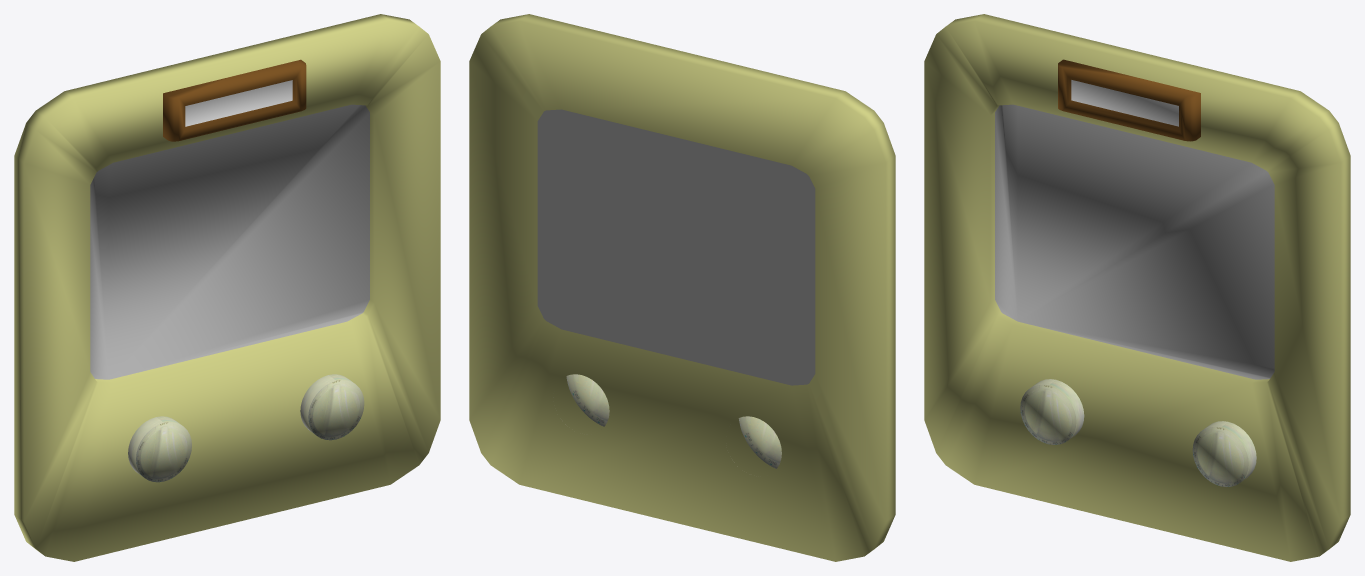
The model's file is ovenCover.fbx.
3 renders of one model, left to right at view 1: azimuth 30°, elevation 25°; view 2: azimuth 150°, elevation 25°; view 3: azimuth 330°, elevation 25°, orthographic.
Parts seen in each view (by area): view 1: joinedcover; view 2: joinedcover; view 3: joinedcover.
Boxes of the visible parts, x1,y1,x2,y2 form: joinedcover: (14,14,440,561); joinedcover: (469,14,895,561); joinedcover: (924,14,1350,561).
Bounding box in the file's own units: 318 × 338 × 24.07.
Materials: 5 (1 with a texture image).
